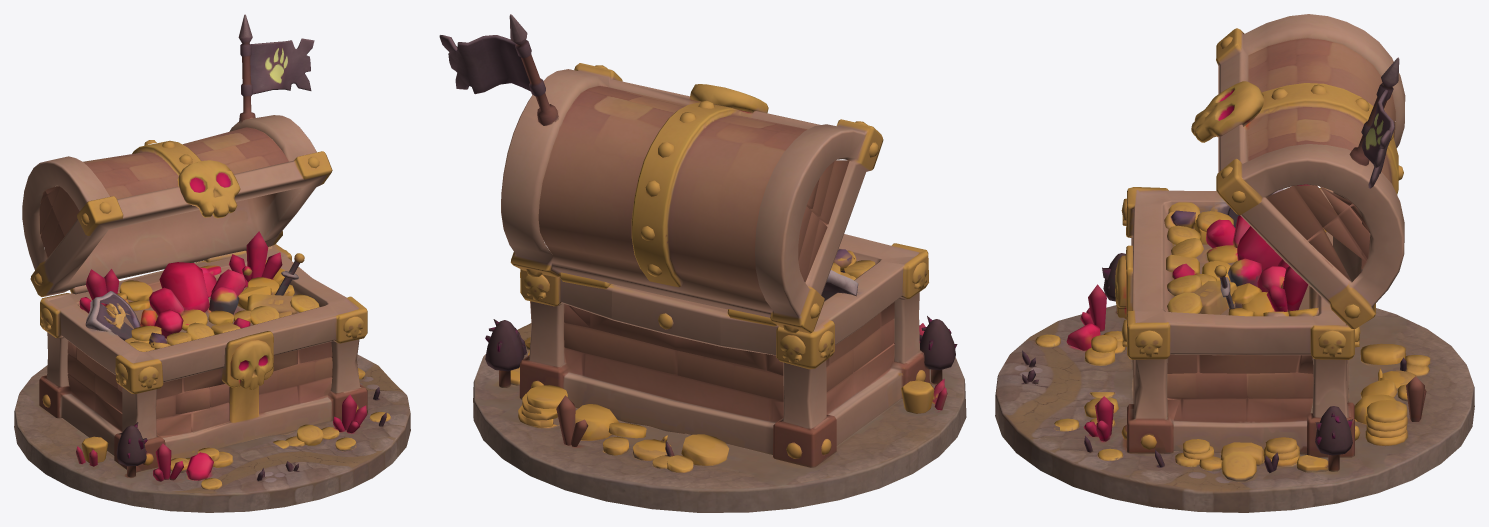
File: Le Coffre de Victoire (Récompense fin de manche).glb
3 renders of one model, left to right at view 1: azimuth 30°, elevation 25°; view 2: azimuth 150°, elevation 25°; view 3: azimuth 270°, elevation 25°, orthographic. The views are drawn at different scales.
Parts seen in each view (by area): view 1: tripo_79b02ba0_fc28_4dee_b280_02d85ef853be; view 2: tripo_79b02ba0_fc28_4dee_b280_02d85ef853be; view 3: tripo_79b02ba0_fc28_4dee_b280_02d85ef853be.
Boxes of the visible parts, x1,y1,x2,y2 form: tripo_79b02ba0_fc28_4dee_b280_02d85ef853be: [14, 14, 410, 512]; tripo_79b02ba0_fc28_4dee_b280_02d85ef853be: [439, 14, 966, 512]; tripo_79b02ba0_fc28_4dee_b280_02d85ef853be: [995, 14, 1474, 512].
Bounding box in the file's own units: 0.9995 × 0.9507 × 0.9995.
Materials: 1 (1 with a texture image).
